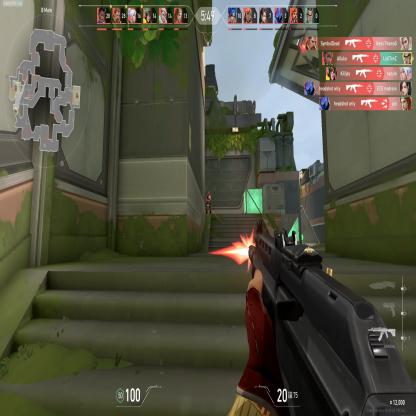enemy: (205, 190, 212, 214)
